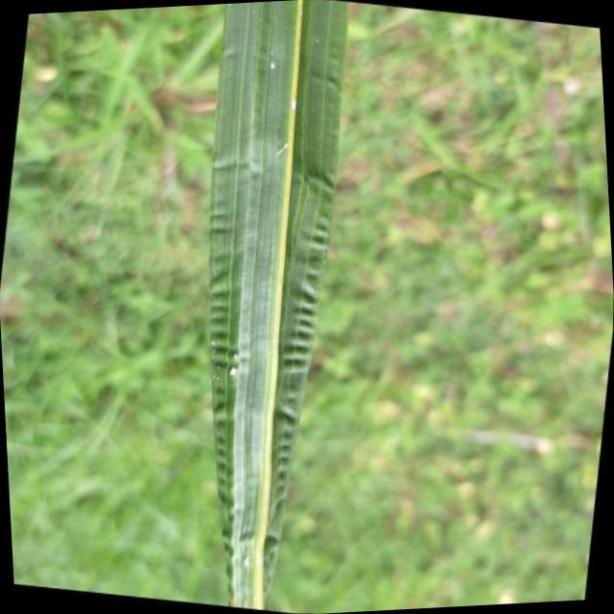Boron: (202, 0, 350, 610)
